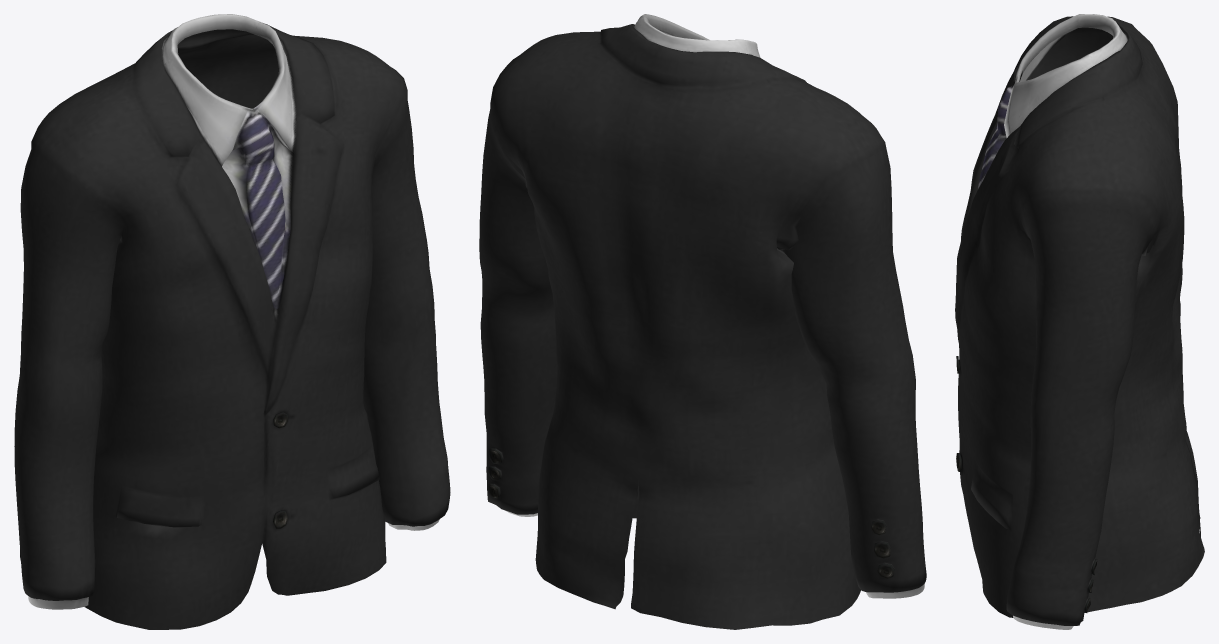
File: outer_suit_blazer.gltf
3 views of the same model, side by side, from view 1: azimuth 30°, elevation 25°; view 2: azimuth 150°, elevation 25°; view 3: azimuth 270°, elevation 25° (orthographic). The views are drawn at different scales.
Parts seen in each view (by area): view 1: outer_suit_blazer; view 2: outer_suit_blazer; view 3: outer_suit_blazer.
Part boxes in pixels (<box>): outer_suit_blazer: <box>14,14,450,629</box>; outer_suit_blazer: <box>479,14,926,629</box>; outer_suit_blazer: <box>955,14,1204,629</box>.
Size of the model in its own units: 0.5554 by 0.6905 by 0.2965.
1 material, 1 textured.
